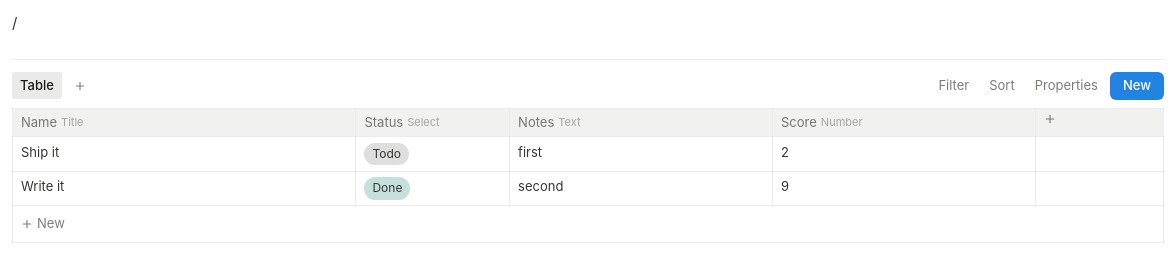
Scenario: rows › refuses to blank a row title
The width and height of the screenshot is (1176, 260).
Expected: the table with test id "db-table" is shown, [12,108,1164,243]
Clear the 1st field named "Row title": (151, 152) [13,137,288,168]
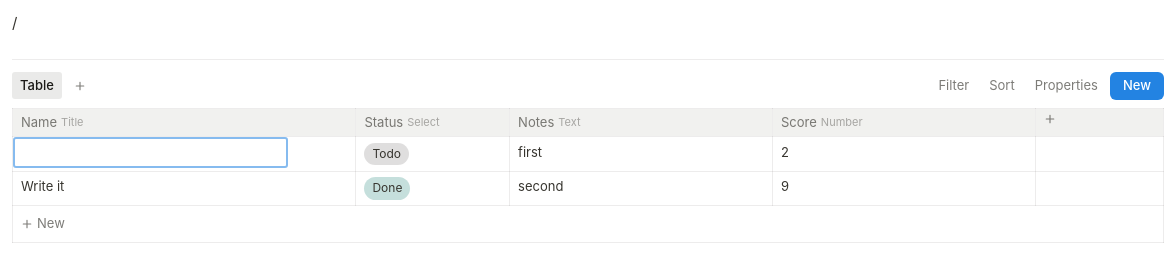
Press Tab
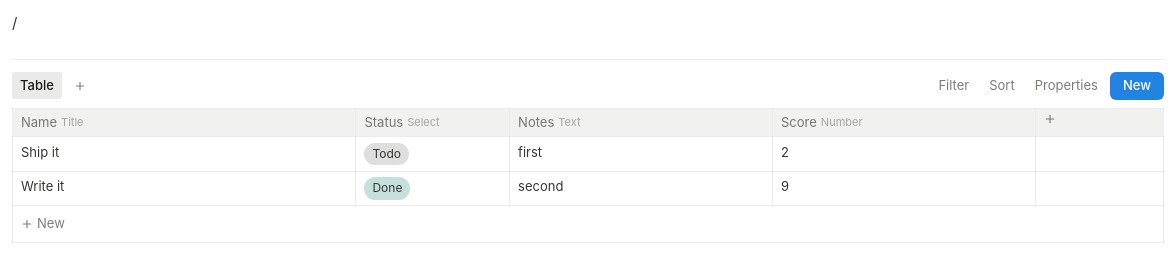
Expected: the 1st field named "Row title" holds "Ship it", [13,137,288,168]
